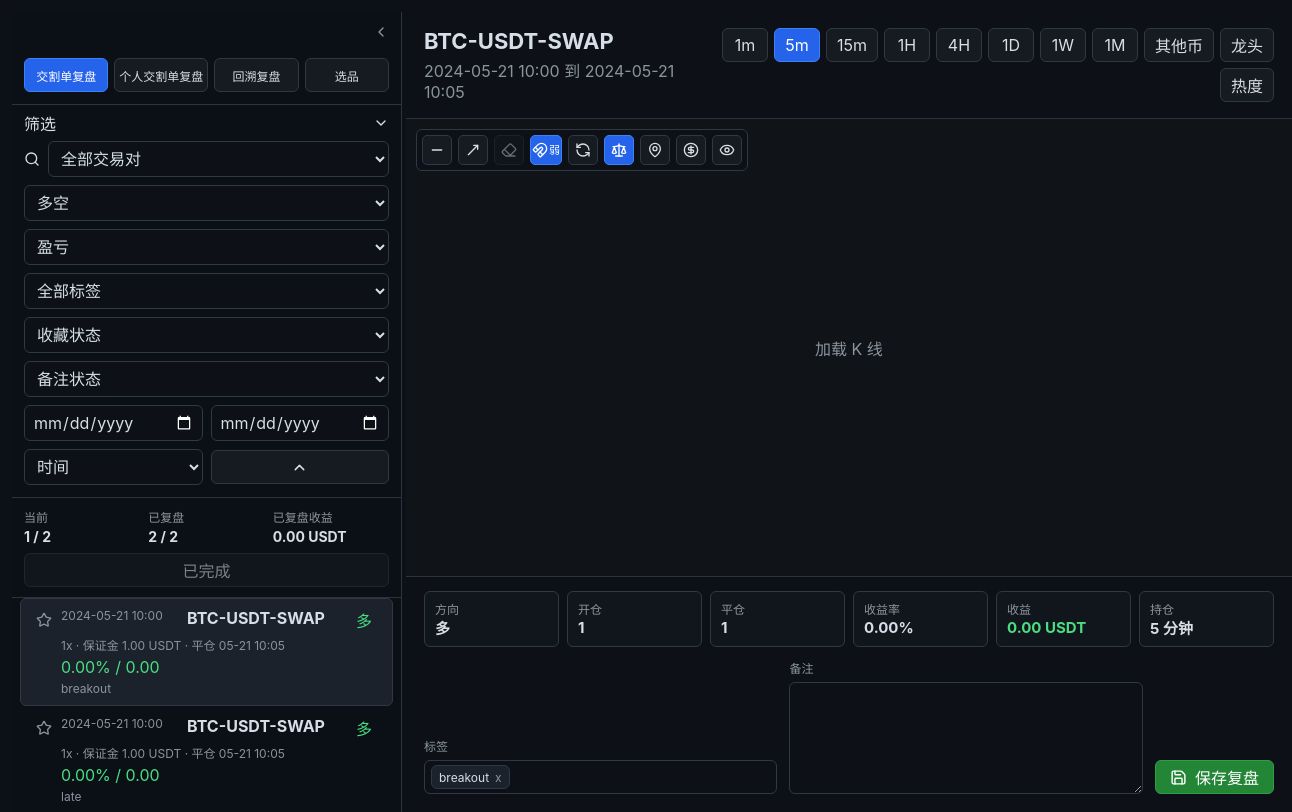
Scenario: Tag management › drops a tag from the dropdown once its last trade loses it
Click the button with aria-label "移除标签 breakout": [470, 777] box top-left (431, 765), bottom-right (510, 789)
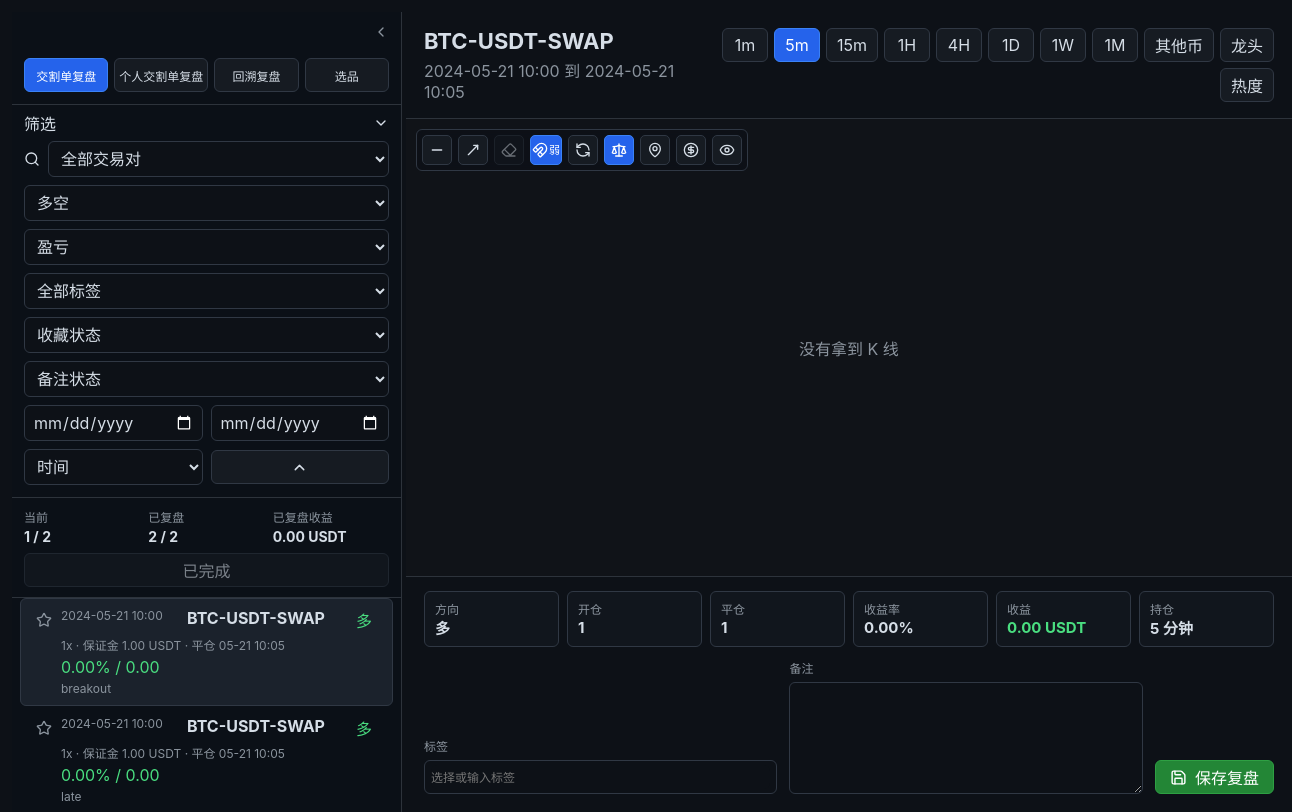
Click the button "保存复盘": [1214, 777] box top-left (1155, 760), bottom-right (1274, 794)
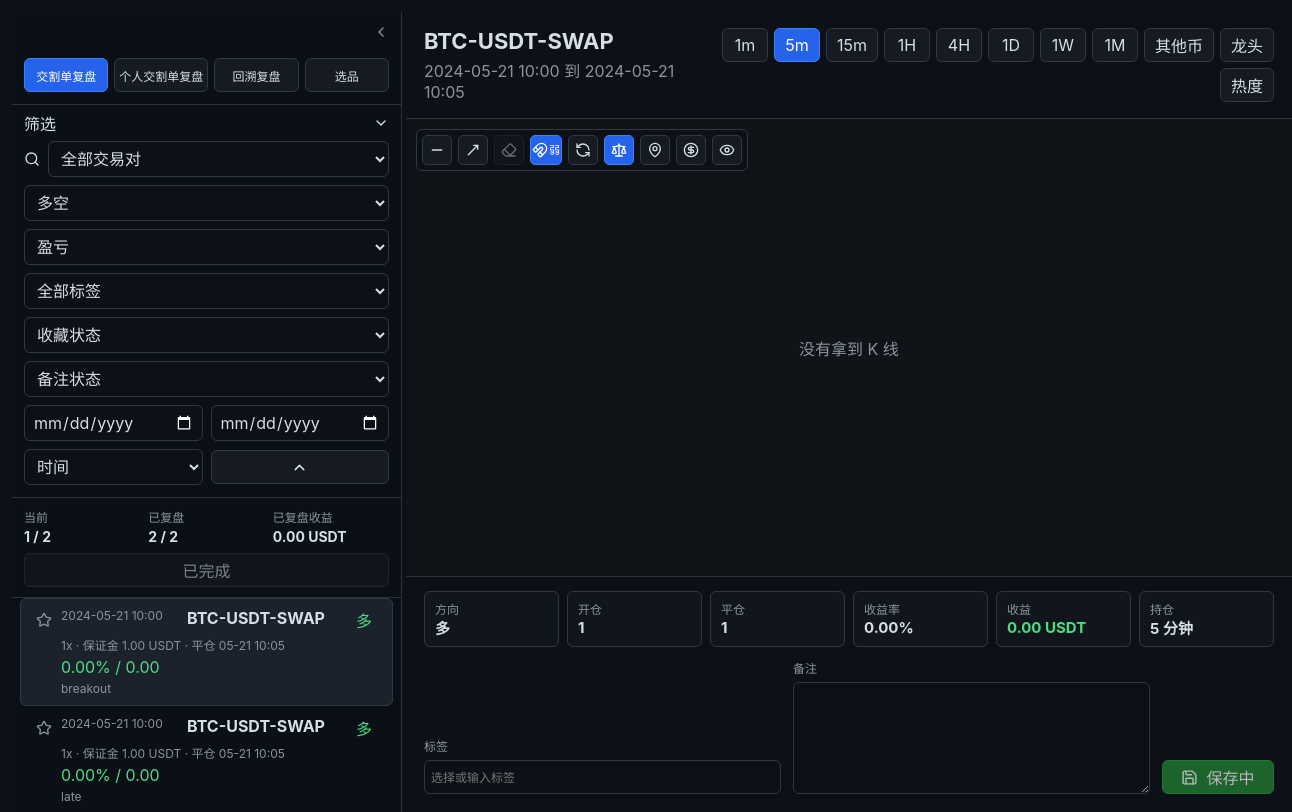
# 'late' still lists, so the dropdown is open and only the emptied tag is gone.
Focus the field labelled "标签": [602, 777] box top-left (431, 765), bottom-right (774, 789)
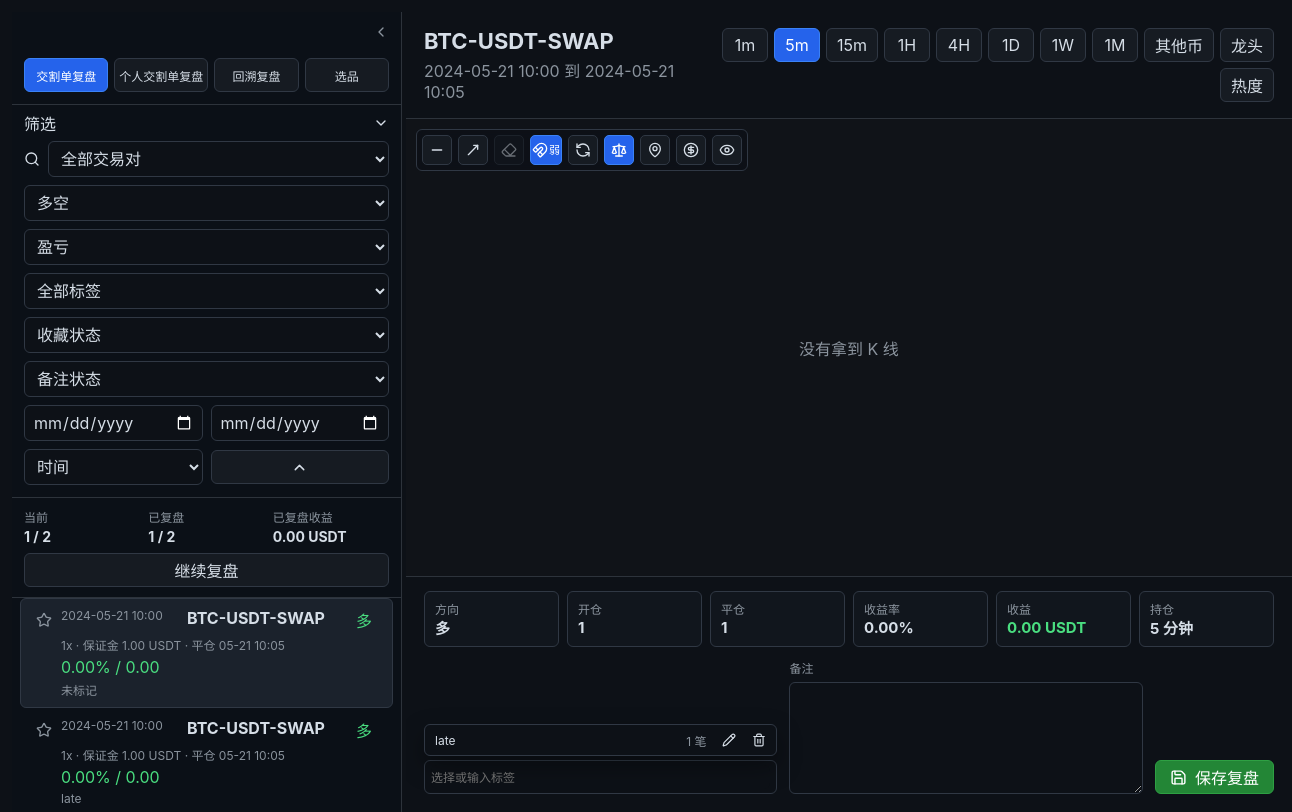
Now the option "late 1 笔" is shown, box top-left (429, 727), bottom-right (712, 753)
Now the button "breakout" is gone
